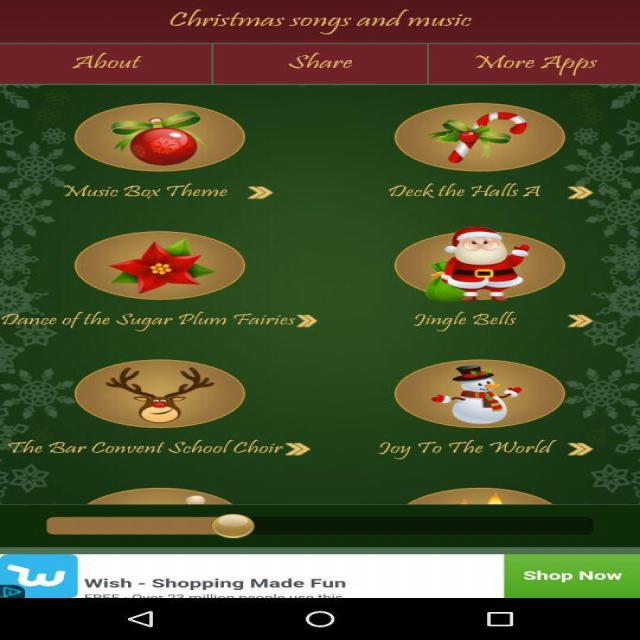button: (9, 38, 210, 85), (210, 42, 423, 76), (424, 48, 634, 80)
icon: (79, 226, 261, 315), (394, 95, 580, 178), (410, 218, 568, 313), (86, 354, 264, 431), (74, 105, 252, 176), (411, 361, 574, 434)
text: (100, 2, 502, 33)
